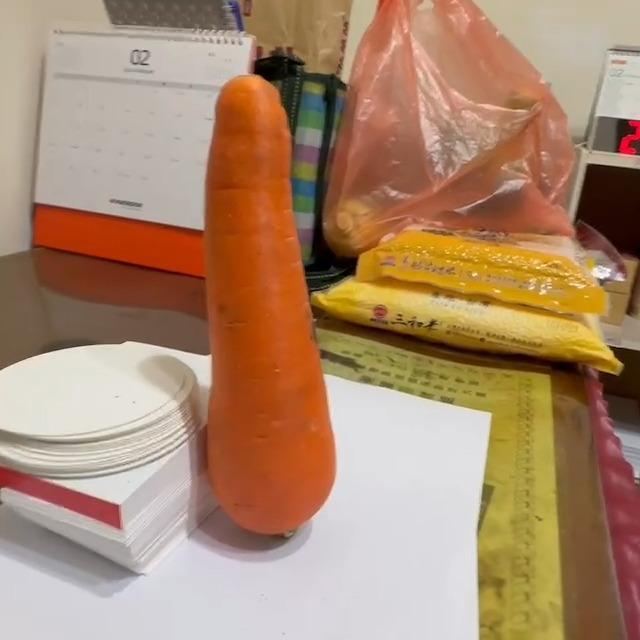carrot: (202, 74, 340, 539)
